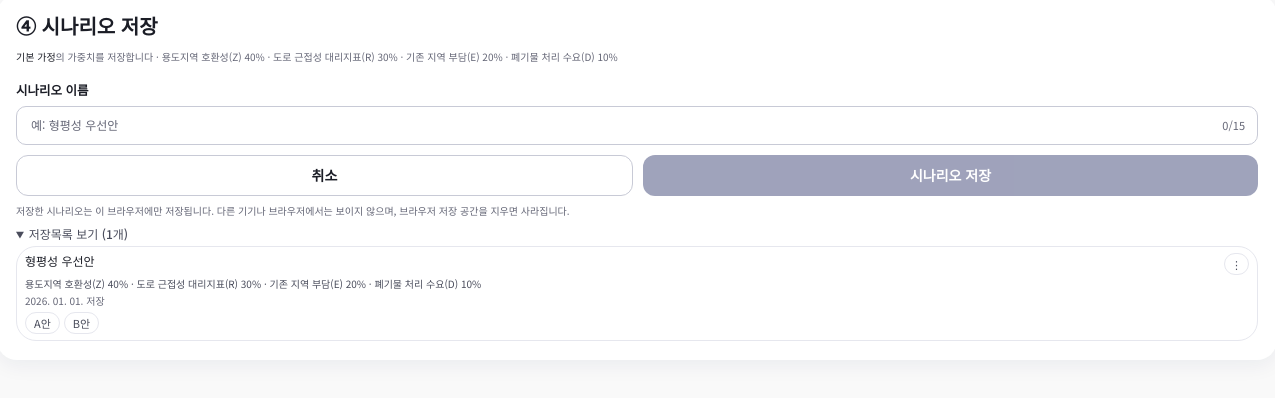
rename › pre-fills the rename field with the current name
Click the button with test id "scenario-saved-menu-toggle": (1236, 264) [1224,252,1249,275]
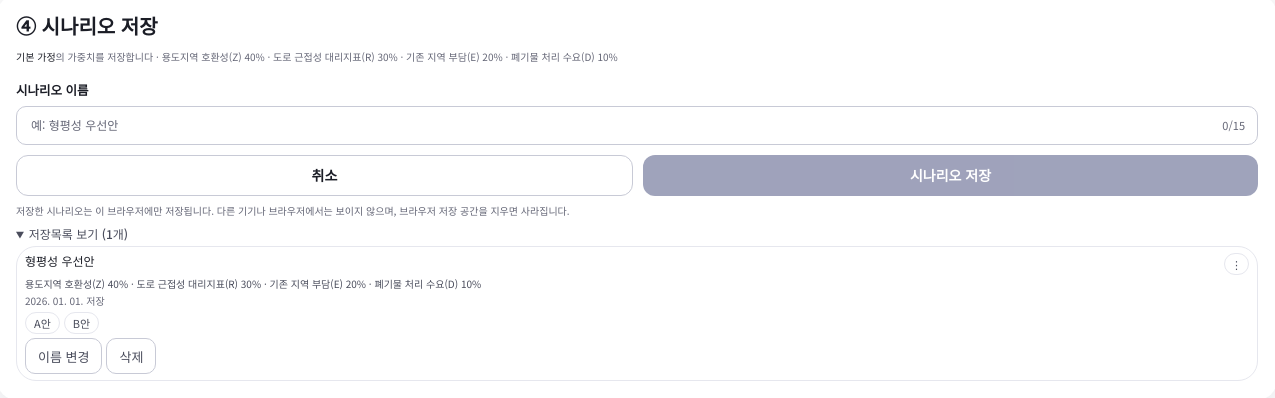
Click the button with test id "scenario-rename-open": (64, 356) [25,338,102,374]
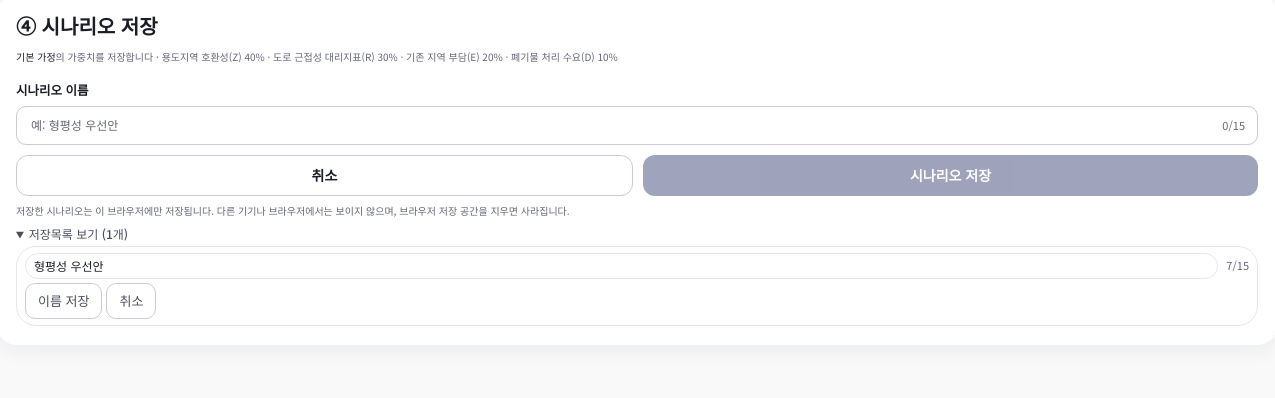
Expected: the field with test id "scenario-rename-input" holds "형평성 우선안", [25,252,1218,278]
